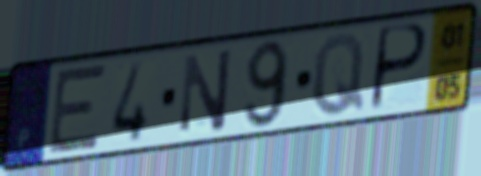4: (108, 56, 154, 145)
9: (241, 37, 294, 132)
E: (45, 61, 110, 159)
N: (178, 45, 235, 136)
P: (366, 21, 431, 115)
Q: (310, 31, 367, 120)
